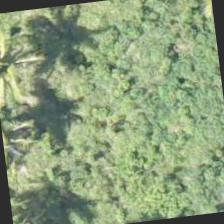Kelapa_Sawit: (0, 11, 45, 107)
